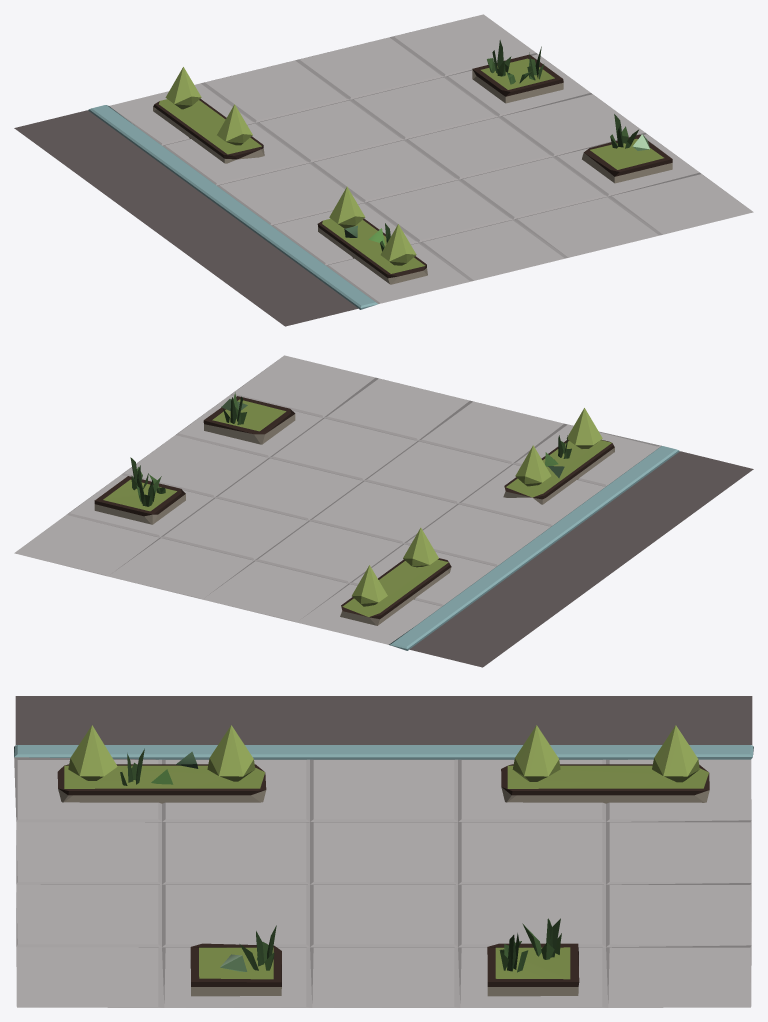
The model's file is QmascWSFeW4sPBiZ9SXoy19GtvZG9a66zf9nSJw3uxqxuw_lod2.fbx.
The picture shows the model from 3 angles, top to bottom: view 1: azimuth 30°, elevation 25°; view 2: azimuth 150°, elevation 25°; view 3: azimuth 270°, elevation 25°; orthographic projection. The views are drawn at different scales.
Visible parts, largest first — view 1: Entity_512; view 2: Entity_512; view 3: Entity_512.
Part boxes in pixels (x1,y1,x2,y2): Entity_512: [14, 14, 753, 326]; Entity_512: [14, 355, 753, 667]; Entity_512: [14, 696, 753, 1007].
Bounding box in the file's own units: 15918 × 1591 × 16000.
Materials: 1 (1 with a texture image).
